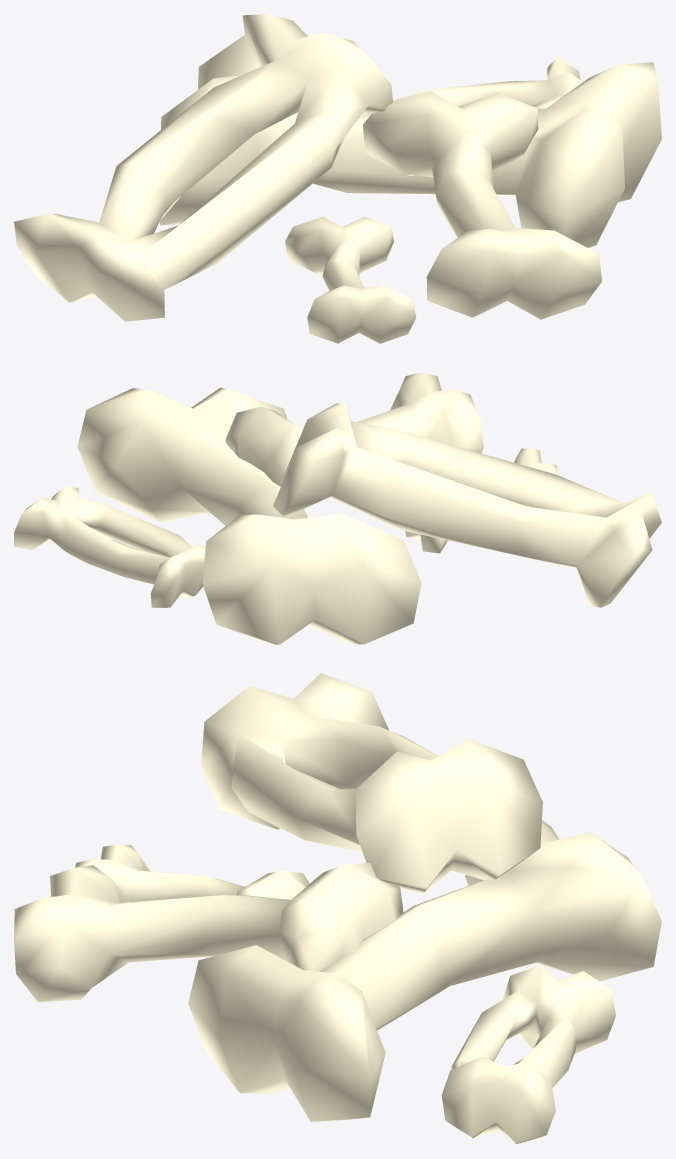
File: 7b585b15-a161-4f5f-af8e-e37fccd06459.glb
The picture shows the model from 3 angles, top to bottom: view 1: azimuth 30°, elevation 25°; view 2: azimuth 150°, elevation 25°; view 3: azimuth 270°, elevation 25°; orthographic projection. The views are drawn at different scales.
Parts seen in each view (by area): view 1: PileOfBones; view 2: PileOfBones; view 3: PileOfBones.
Part boxes in pixels (x1,y1,x2,y2): PileOfBones: [14, 14, 661, 343]; PileOfBones: [14, 372, 661, 644]; PileOfBones: [14, 673, 661, 1144].
Size of what is drawn, in the model's own units: 0.8575 by 0.2843 by 0.6762.
1 material, 1 textured.
